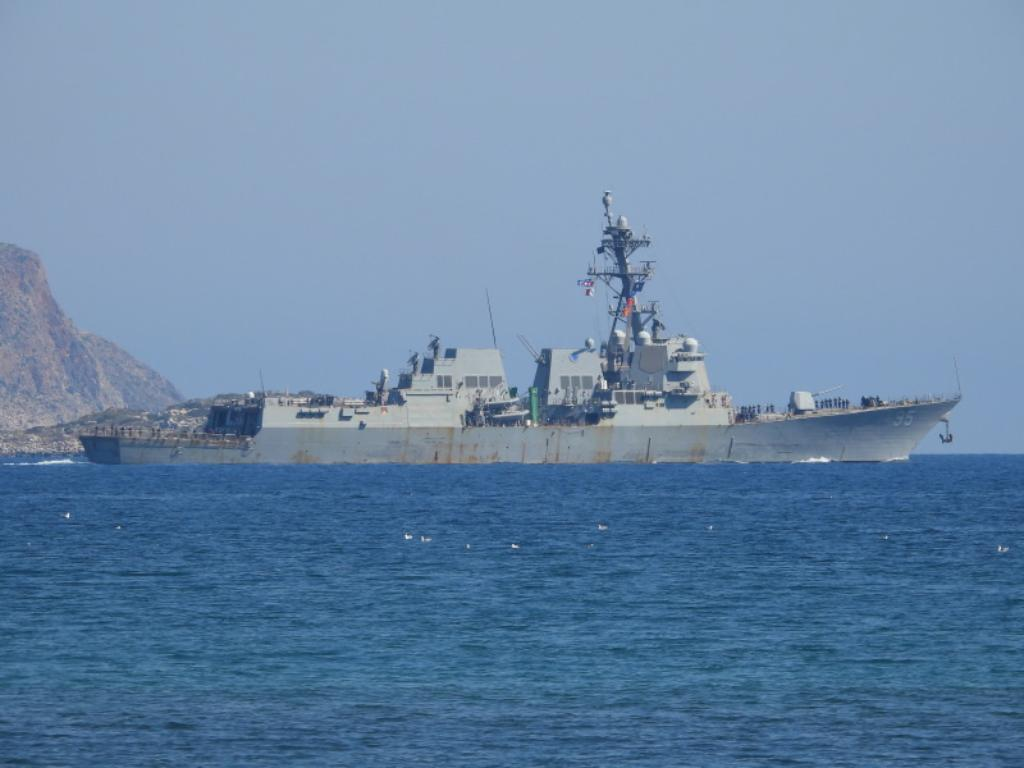Warship: (75, 185, 965, 467)
